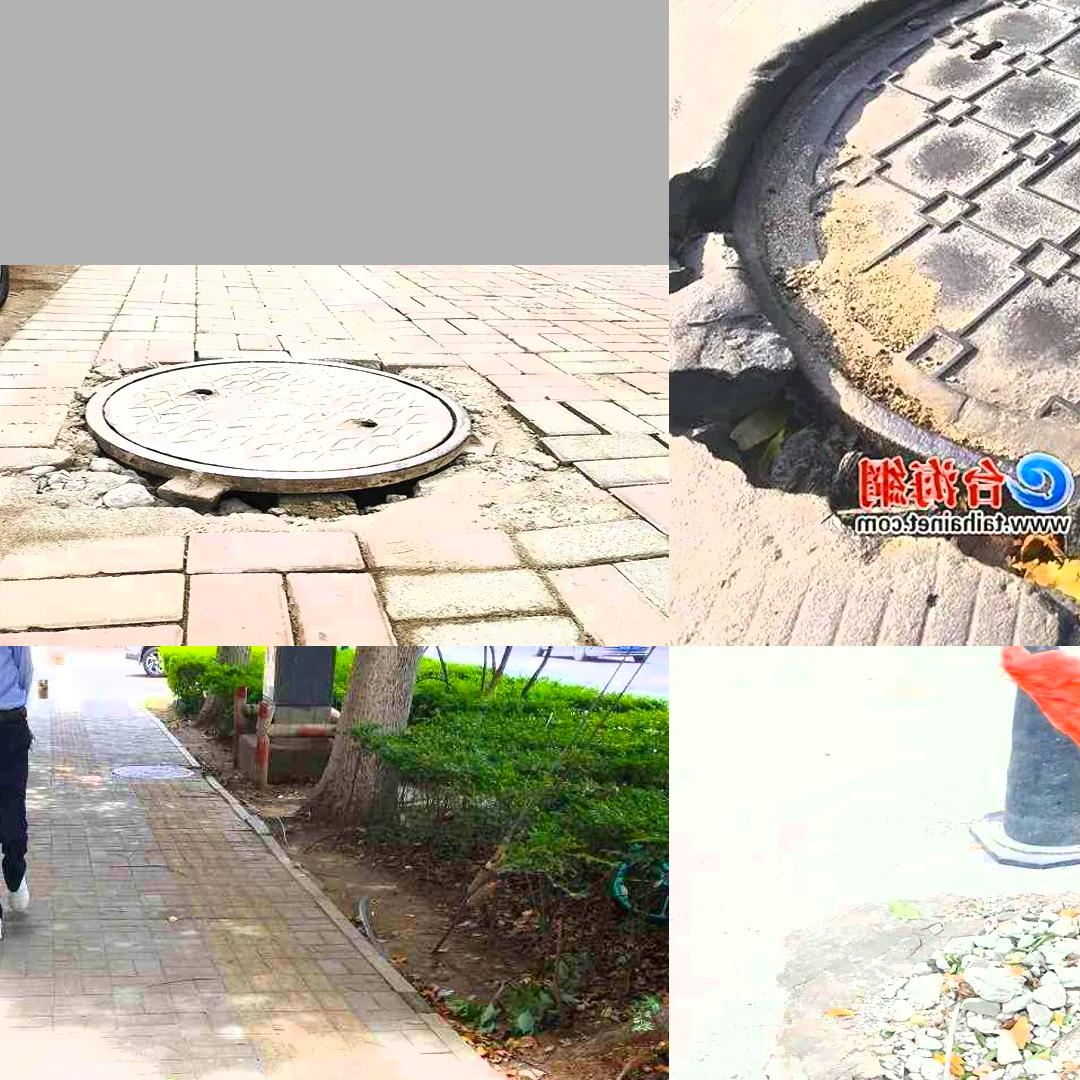circle: (689, 0, 1080, 612), (0, 358, 622, 531), (878, 965, 1080, 1080)
